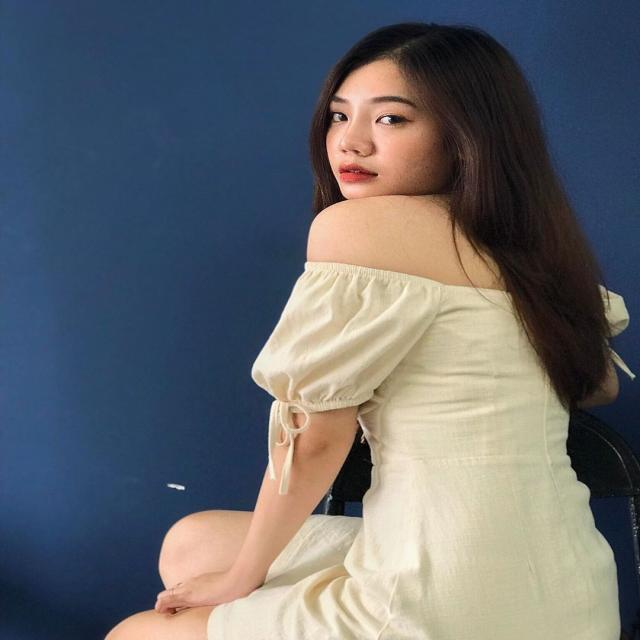clothes: (247, 195, 631, 640)
